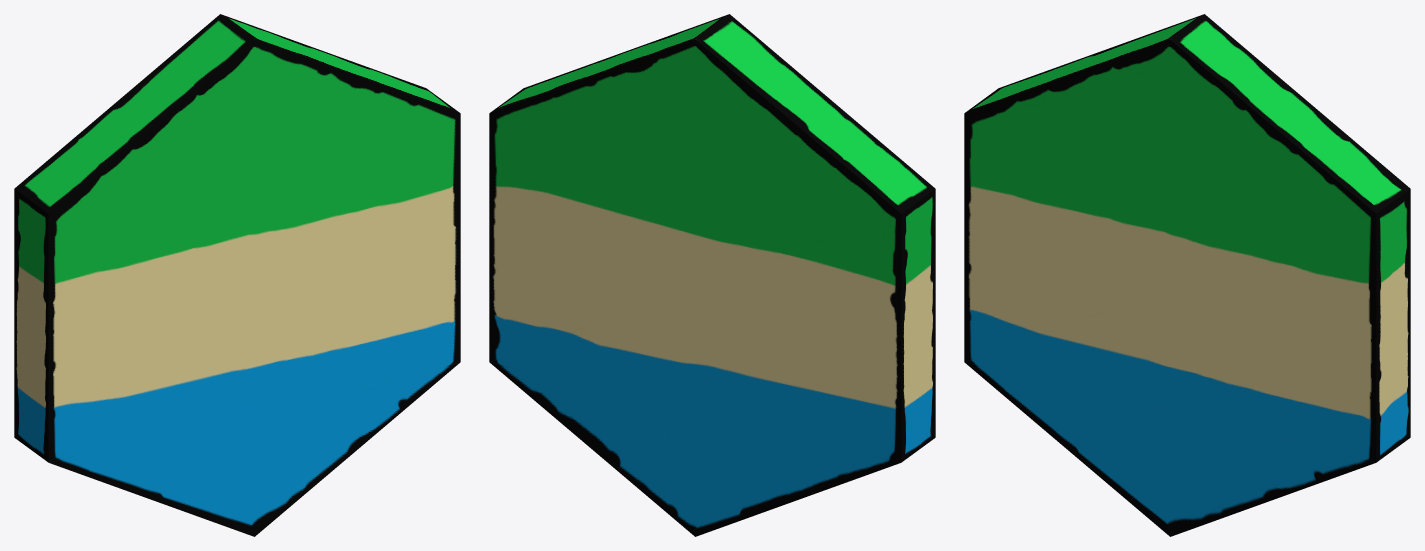
File: Shoreline Tile.glb
3 views of the same model, side by side, from view 1: azimuth 30°, elevation 25°; view 2: azimuth 150°, elevation 25°; view 3: azimuth 330°, elevation 25° (orthographic).
Parts seen in each view (by area): view 1: node_id3; view 2: node_id3; view 3: node_id3.
Boxes of the visible parts, bbox=[...] form: node_id3: bbox=[14, 14, 460, 536]; node_id3: bbox=[489, 14, 935, 536]; node_id3: bbox=[964, 14, 1410, 536].
Size of the model in its own units: 0.4434 by 0.512 by 0.064.
1 material, 1 textured.
